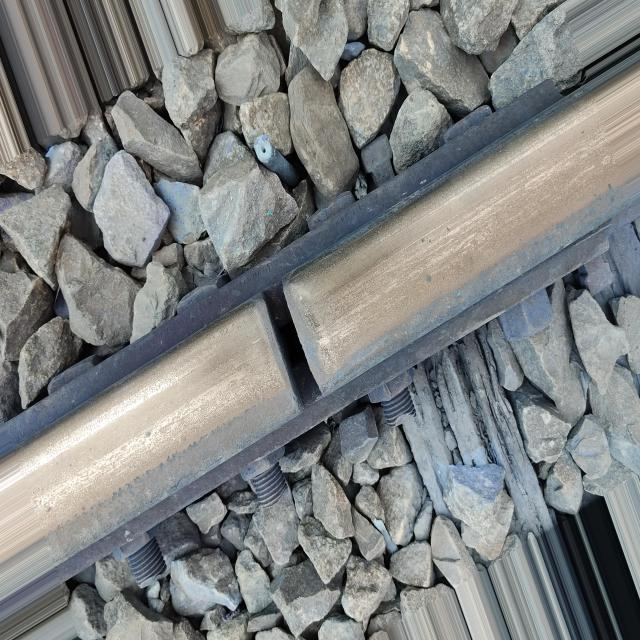crack: (232, 270, 338, 407)
